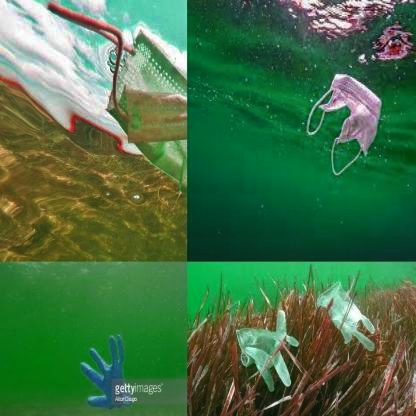Mask: (38, 0, 186, 261), (305, 55, 386, 185)
glove: (232, 310, 301, 390), (312, 279, 380, 353), (80, 334, 138, 411)
